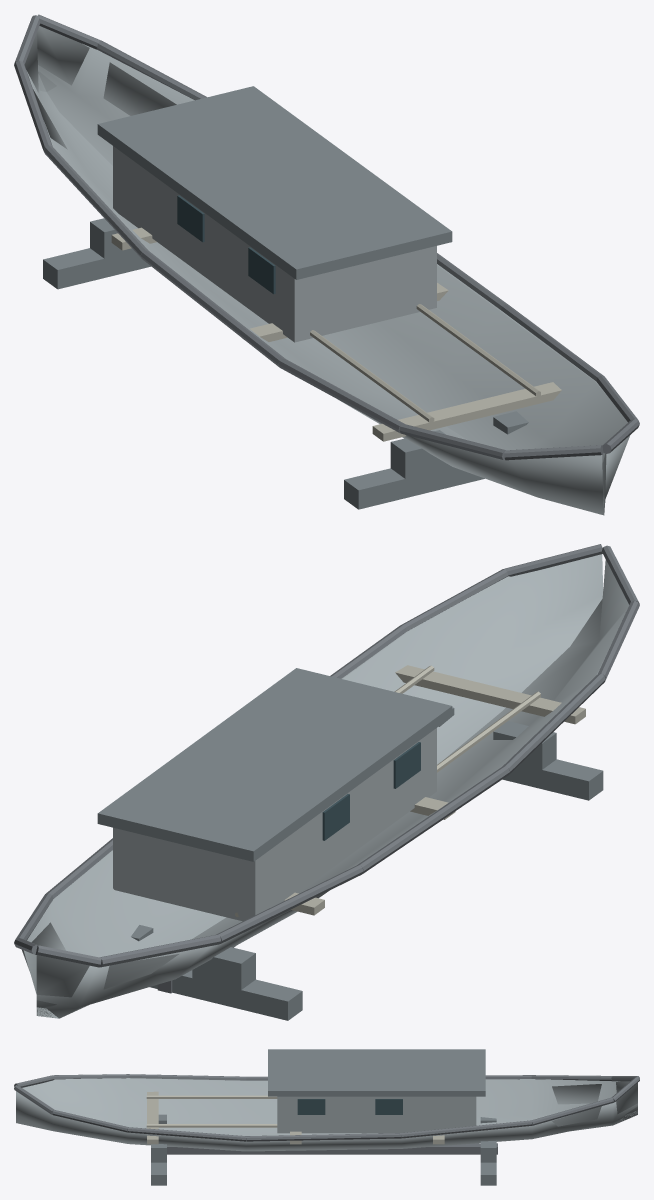
3 renders of one model, top to bottom at view 1: azimuth 30°, elevation 25°; view 2: azimuth 150°, elevation 25°; view 3: azimuth 270°, elevation 25°, orthographic. The views are drawn at different scales.
Parts seen in each view (by area): view 1: component.root.mesh; view 2: component.root.mesh; view 3: component.root.mesh.
Boxes of the visible parts, x1=… form: component.root.mesh: x1=14, y1=14, x2=639, y2=515; component.root.mesh: x1=14, y1=544, x2=639, y2=1020; component.root.mesh: x1=14, y1=1049, x2=639, y2=1185.
Bounding box in the file's own units: 2.92 × 1.72 × 11.78.
